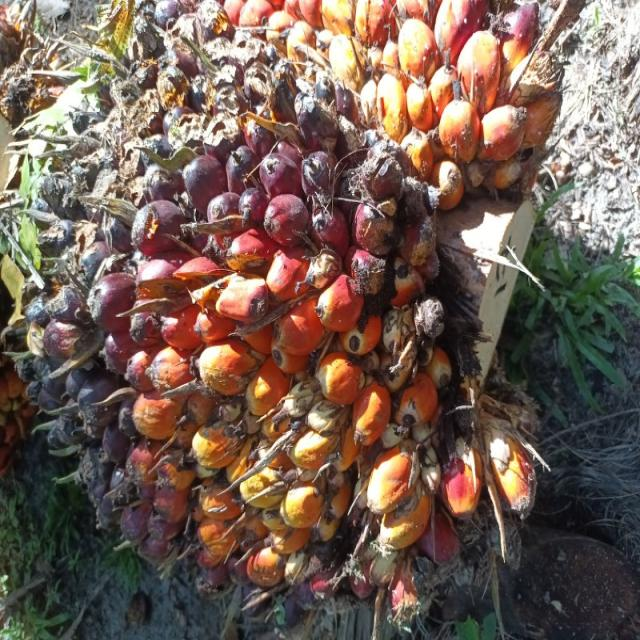fraksi 3: (11, 51, 480, 640)
